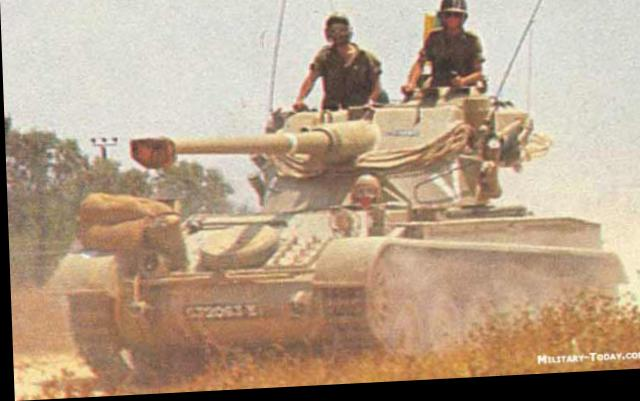other: (415, 0, 530, 131), (284, 11, 379, 128)
tank: (45, 57, 628, 365)
